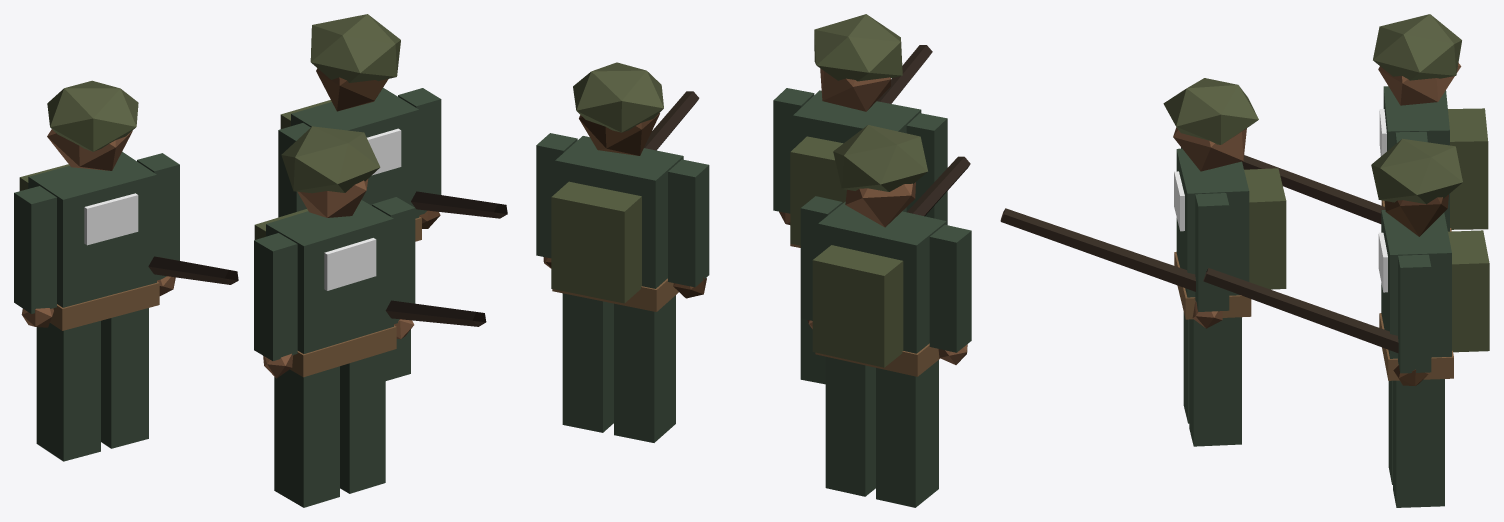
File: Marine.glb
3 views of the same model, side by side, from view 1: azimuth 30°, elevation 25°; view 2: azimuth 150°, elevation 25°; view 3: azimuth 270°, elevation 25° (orthographic). The views are drawn at different scales.
Parts seen in each view (by area): view 1: Units_Marine; view 2: Units_Marine; view 3: Units_Marine.
Part boxes in pixels (<box>): Units_Marine: <box>14,14,507,507</box>; Units_Marine: <box>536,14,971,507</box>; Units_Marine: <box>1000,14,1489,507</box>.
Size of the model in its own units: 0.2386 by 0.1929 by 0.2519.
